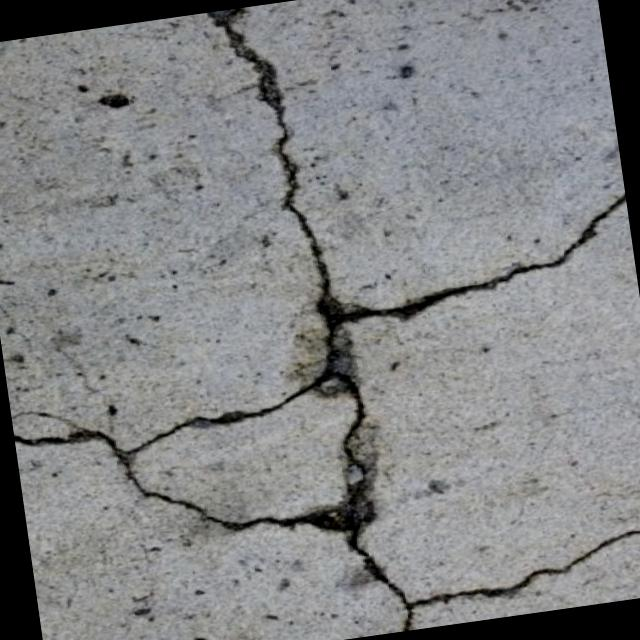crack: (202, 0, 411, 640), (334, 192, 638, 328), (404, 524, 640, 613), (122, 454, 277, 548), (11, 396, 126, 484), (120, 408, 262, 472)
